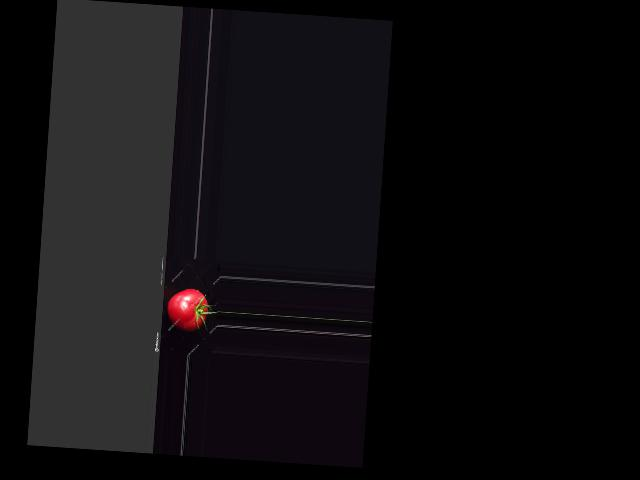tomato: (165, 287, 209, 332)
